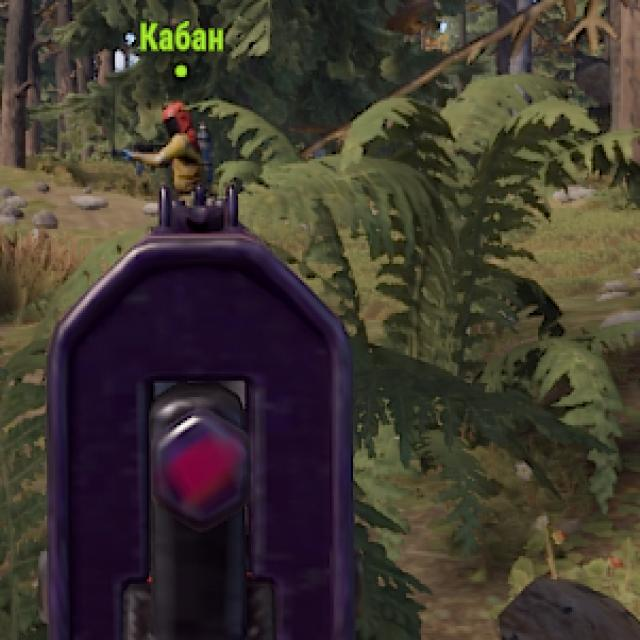Player: (134, 102, 211, 185)
